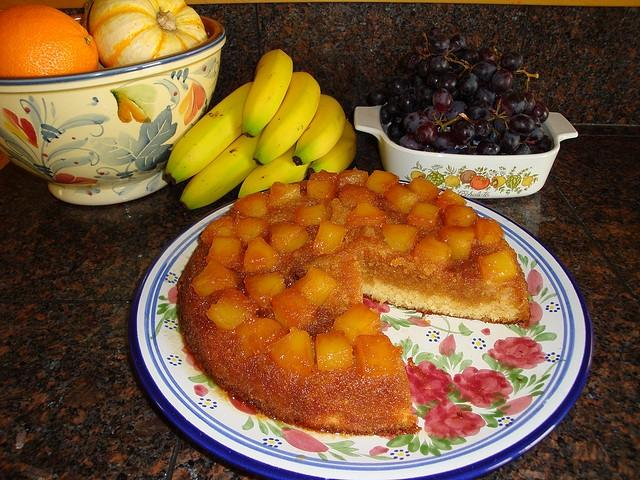banana: (164, 82, 253, 185), (179, 126, 266, 210), (253, 72, 321, 166), (242, 49, 293, 138), (238, 141, 314, 199), (292, 94, 346, 166), (308, 121, 357, 178)
grape: (442, 100, 468, 126), (456, 68, 478, 98), (502, 93, 528, 117), (450, 122, 476, 146), (473, 60, 497, 85), (414, 122, 438, 146), (496, 129, 520, 153), (499, 51, 524, 74), (510, 114, 536, 136), (430, 132, 458, 152), (404, 113, 428, 136), (473, 84, 496, 107), (492, 69, 514, 93), (432, 88, 453, 113), (436, 72, 459, 94), (386, 76, 411, 96), (472, 118, 492, 142), (399, 133, 425, 151), (415, 87, 437, 108), (428, 34, 450, 55), (467, 100, 489, 120), (528, 102, 548, 124), (427, 55, 449, 75), (520, 124, 544, 142), (402, 50, 421, 72), (369, 88, 392, 106), (477, 139, 502, 155), (398, 93, 418, 113), (413, 36, 432, 56), (458, 48, 478, 66), (422, 104, 442, 122), (476, 49, 498, 64), (386, 100, 404, 117), (449, 34, 466, 52), (535, 134, 552, 152), (522, 92, 535, 114), (416, 58, 429, 78), (512, 143, 532, 155), (524, 110, 540, 124), (500, 89, 517, 102), (410, 74, 424, 87)
orange: (0, 4, 99, 80)
